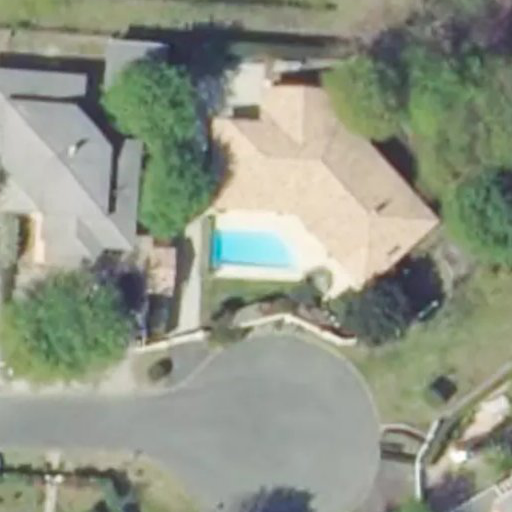pool: (212, 229, 298, 269)
